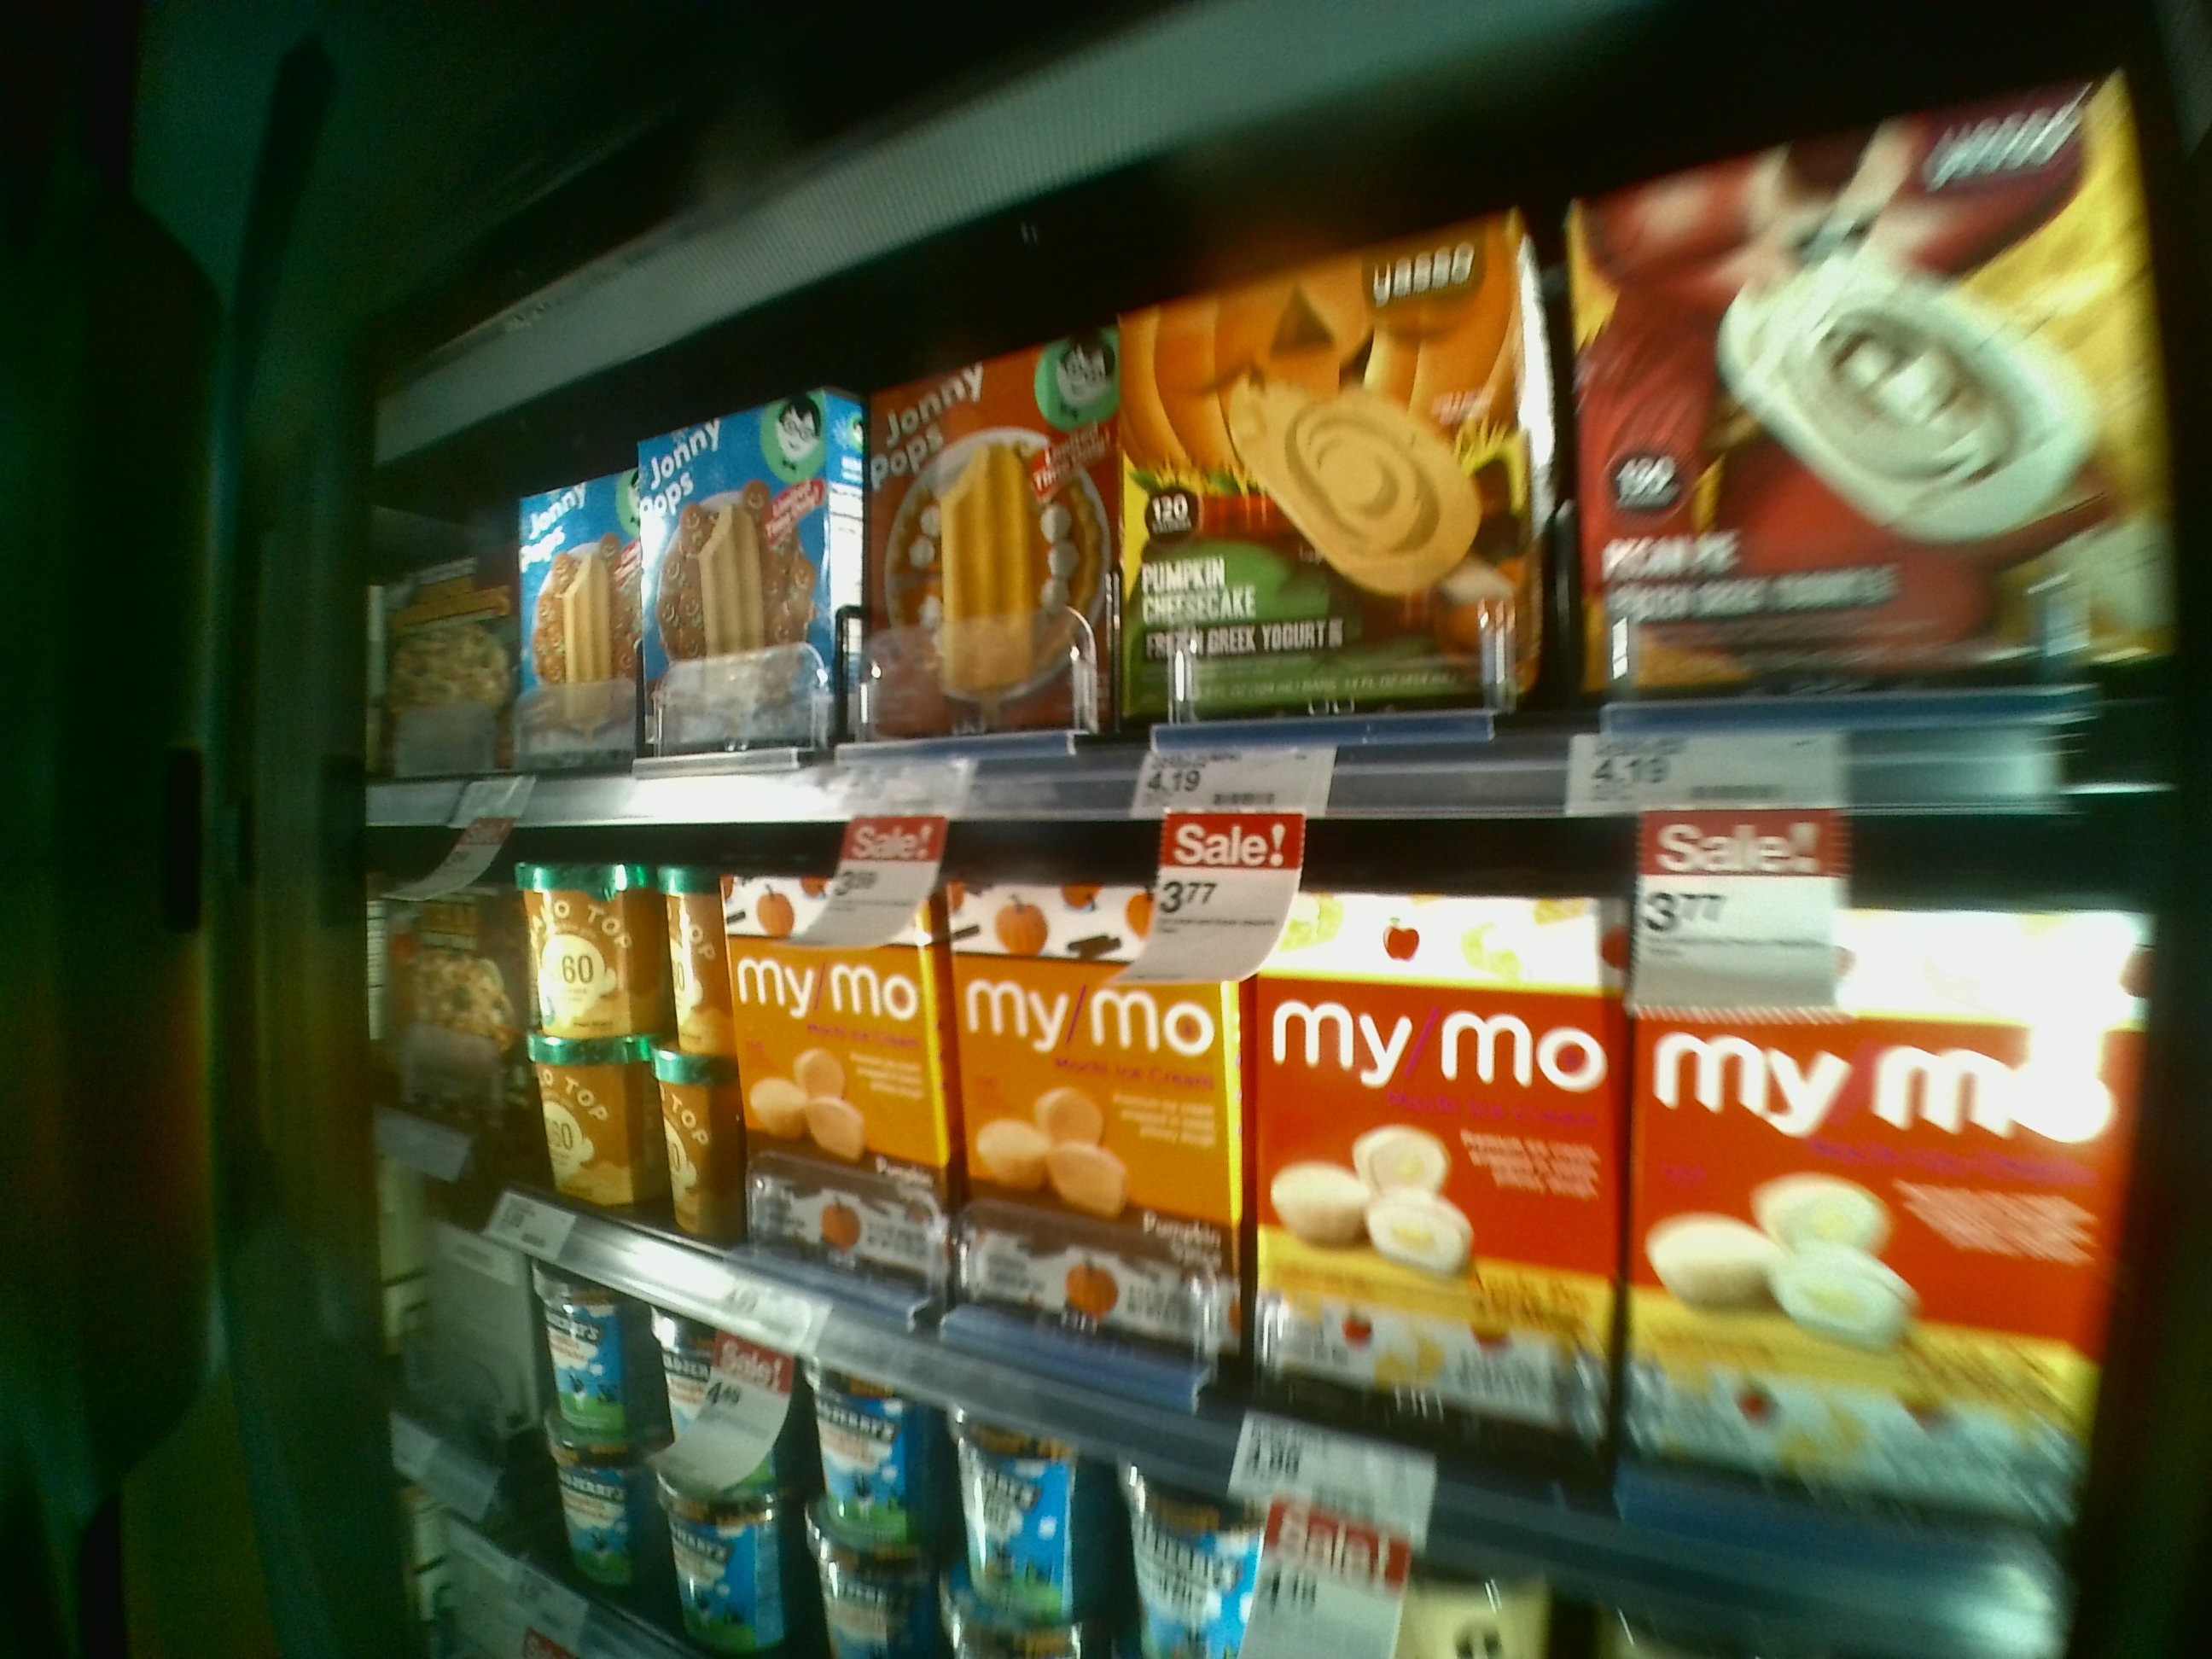shelf: (399, 218, 2146, 802)
